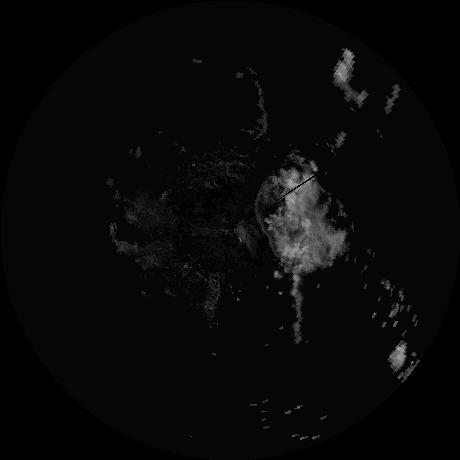frontgust: (253, 186, 278, 259)
